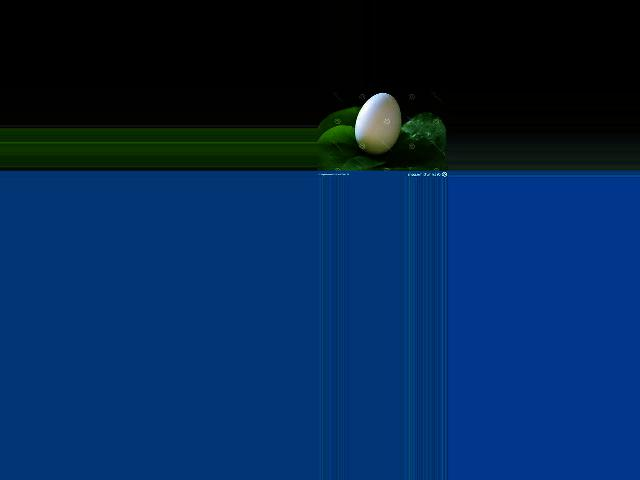egg: (354, 93, 401, 155)
